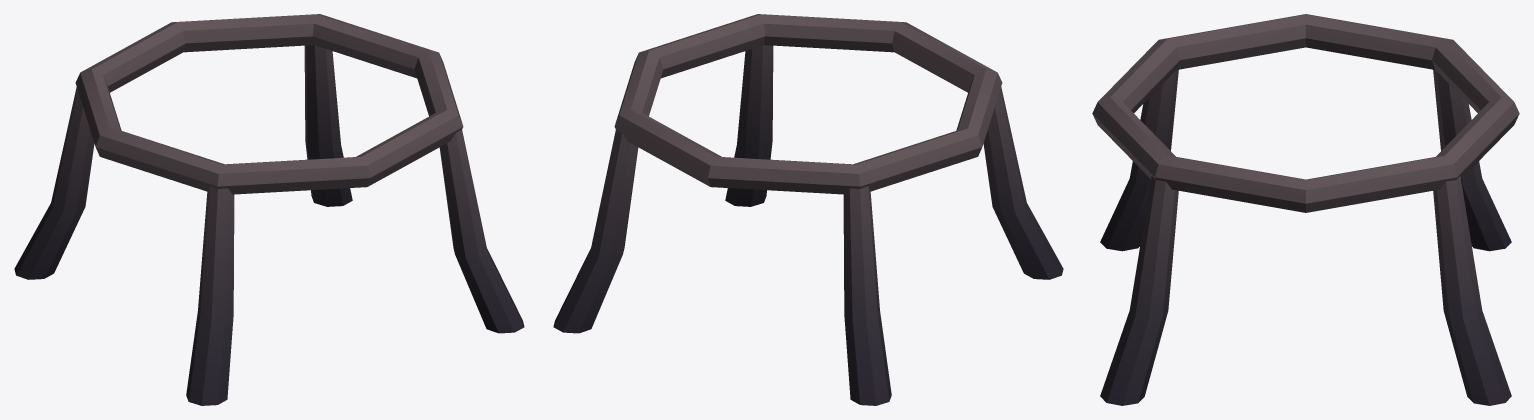
Rendered from SM_CookingPotStand.fbx.
The picture shows the model from 3 angles, left to right: view 1: azimuth 30°, elevation 25°; view 2: azimuth 150°, elevation 25°; view 3: azimuth 270°, elevation 25°; orthographic projection. The views are drawn at different scales.
Visible parts, largest first — view 1: Torus.001; view 2: Torus.001; view 3: Torus.001.
Part boxes in pixels (left/top/right/bottom): Torus.001: left=14, top=14, right=524, bottom=405; Torus.001: left=553, top=14, right=1063, bottom=405; Torus.001: left=1092, top=14, right=1519, bottom=405.
Bounding box in the file's own units: 60 × 34.37 × 60.
